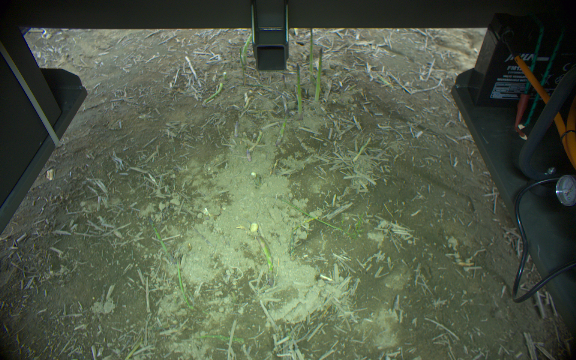aspa: (252, 231, 278, 289), (244, 130, 266, 165), (274, 110, 291, 148), (293, 63, 304, 119), (313, 46, 323, 102), (200, 82, 222, 105), (240, 32, 251, 68), (307, 29, 312, 75)
